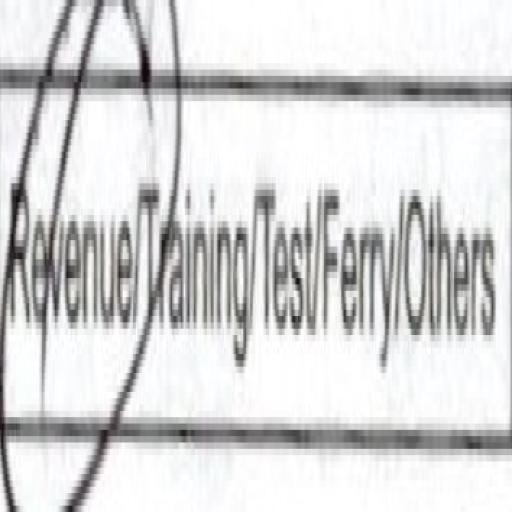check: (1, 2, 136, 512)
